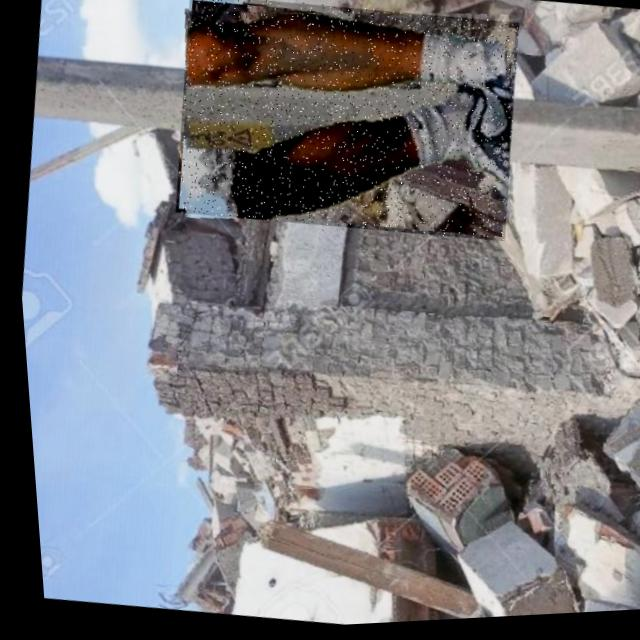Person in Rubble: (160, 0, 531, 259)
